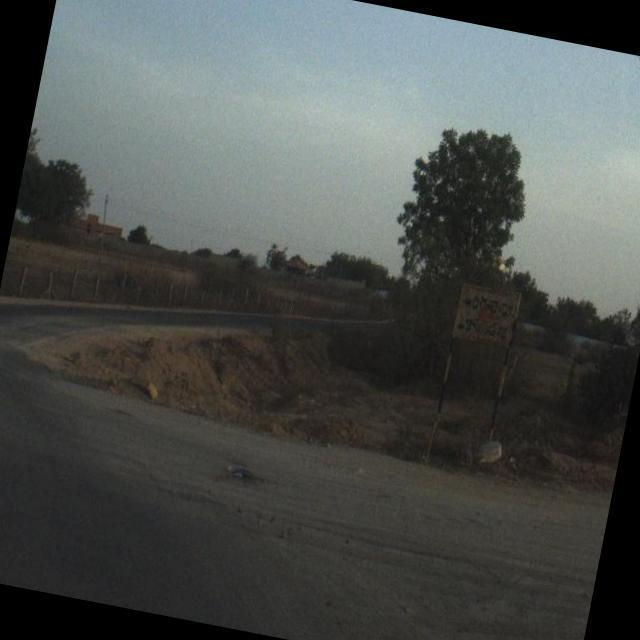Pothole: (218, 454, 274, 500)
